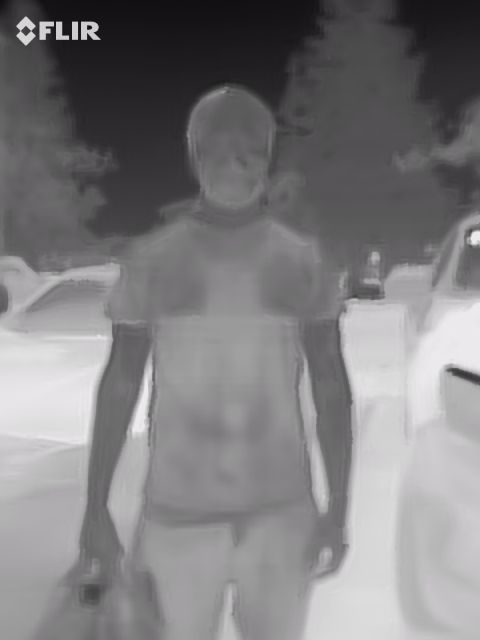head: (185, 84, 275, 213)
